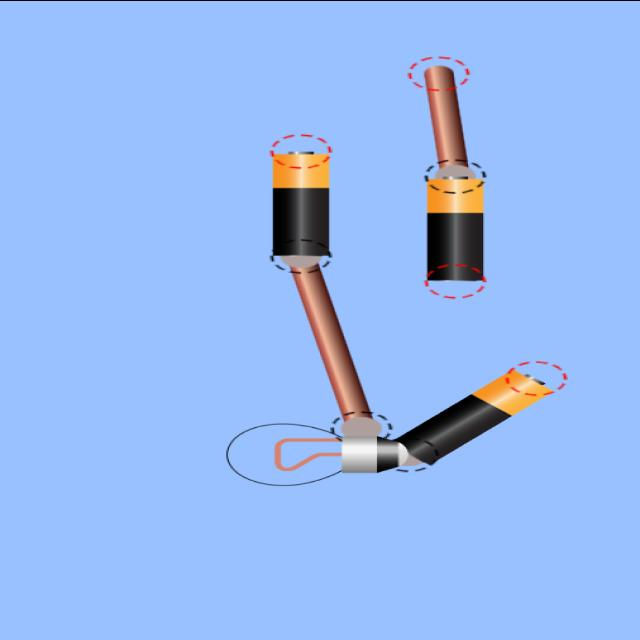Battery: (394, 369, 552, 464), (274, 151, 329, 265), (427, 178, 483, 280)
Light Bulb: (229, 422, 408, 486)
Wire: (292, 264, 379, 435), (425, 65, 466, 166)
